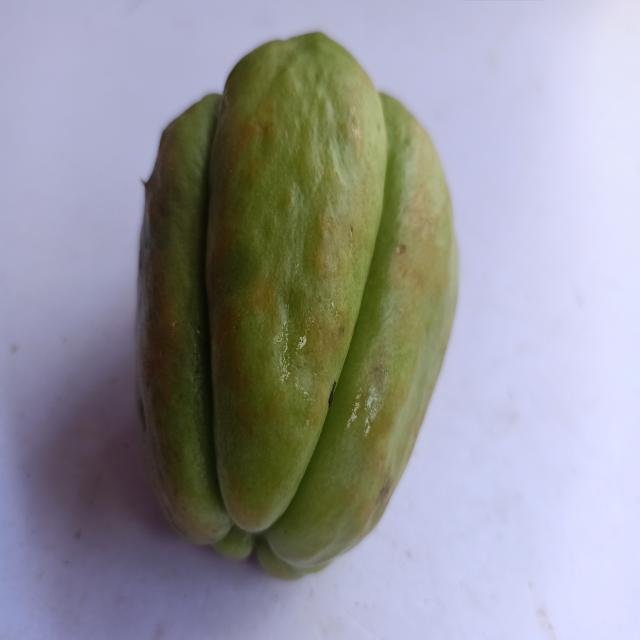Chayote: (127, 16, 476, 586)
